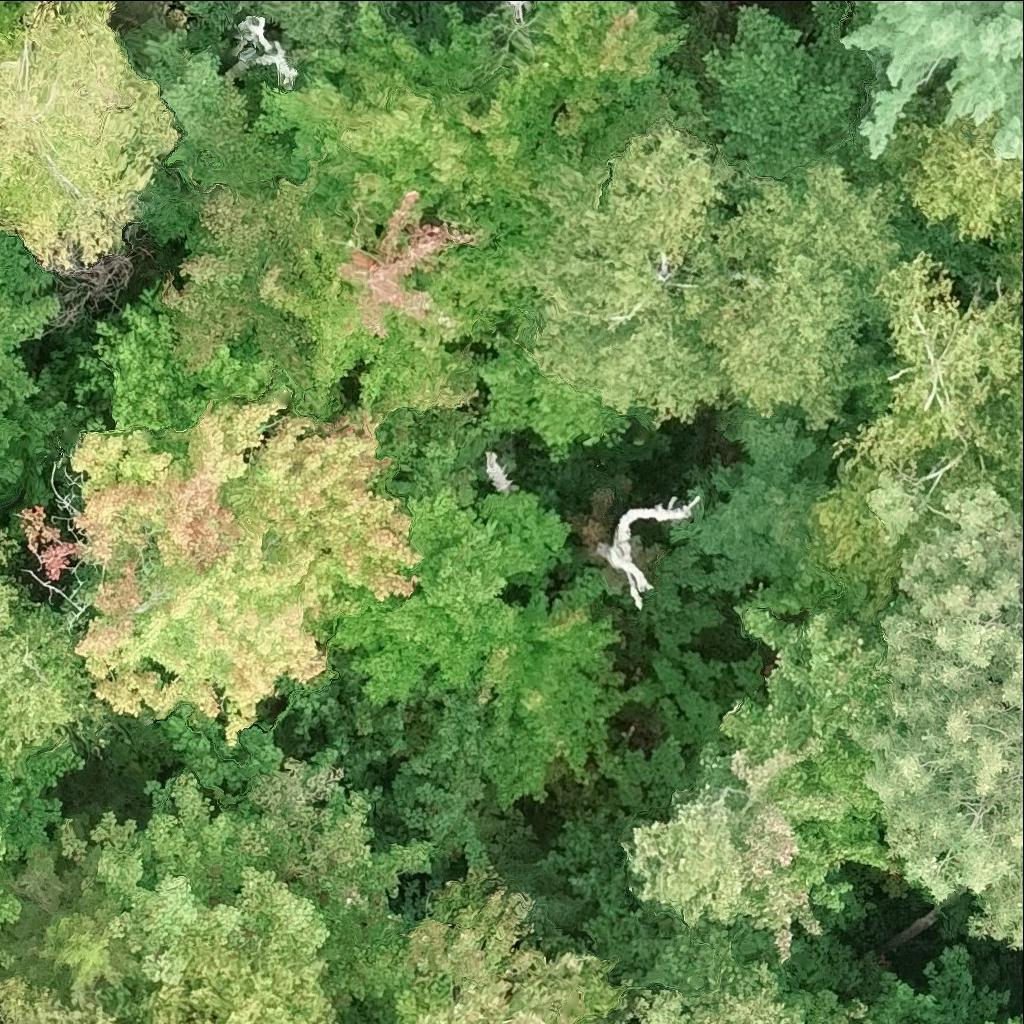crown: (31, 399, 422, 742), (64, 697, 439, 1023), (624, 608, 905, 963), (310, 489, 623, 801), (870, 485, 1023, 951), (513, 124, 738, 423), (688, 159, 904, 429), (260, 170, 477, 423), (0, 0, 181, 269), (258, 66, 530, 227), (93, 847, 341, 1023), (850, 250, 1023, 502), (397, 866, 628, 1023), (160, 160, 318, 386), (669, 417, 832, 597), (842, 0, 1023, 160), (495, 0, 688, 135), (0, 578, 125, 773), (0, 836, 137, 1005), (73, 278, 195, 433), (902, 103, 1023, 240), (357, 312, 478, 424), (806, 458, 897, 597), (0, 717, 84, 860), (599, 497, 701, 606), (188, 0, 346, 65), (0, 367, 72, 504), (0, 242, 61, 393), (630, 977, 802, 1023), (0, 972, 119, 1023), (239, 17, 297, 88), (0, 884, 21, 965), (489, 446, 522, 493), (0, 390, 11, 439), (378, 0, 402, 22), (510, 0, 529, 22), (0, 528, 13, 558), (1010, 1014, 1023, 1023), (0, 1000, 4, 1013), (988, 1021, 997, 1023), (1021, 213, 1023, 218)
